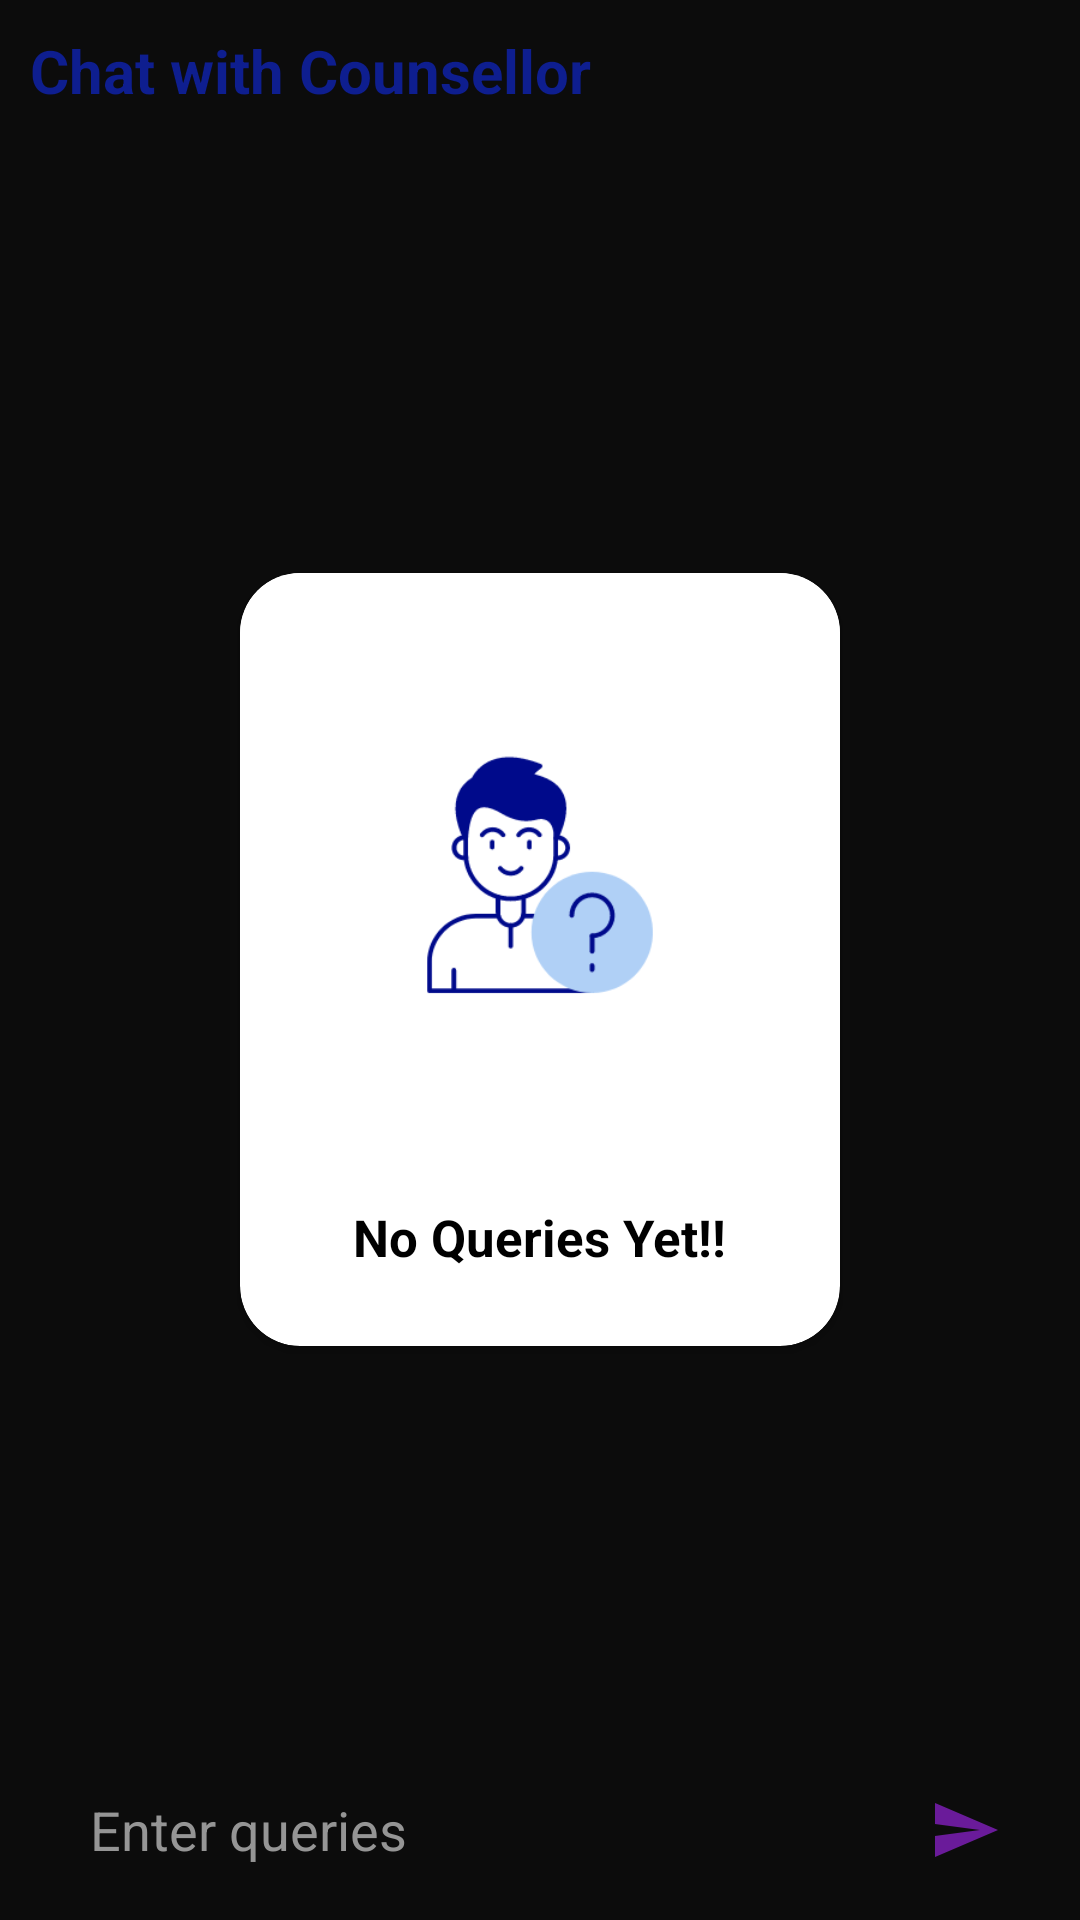

Named icons in this screenshot (1080px×1920px) and their centers, (x,y):
send: (966,1830)
